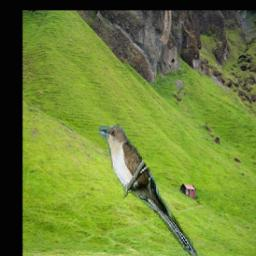Cuckoo: (96, 124, 198, 256)
